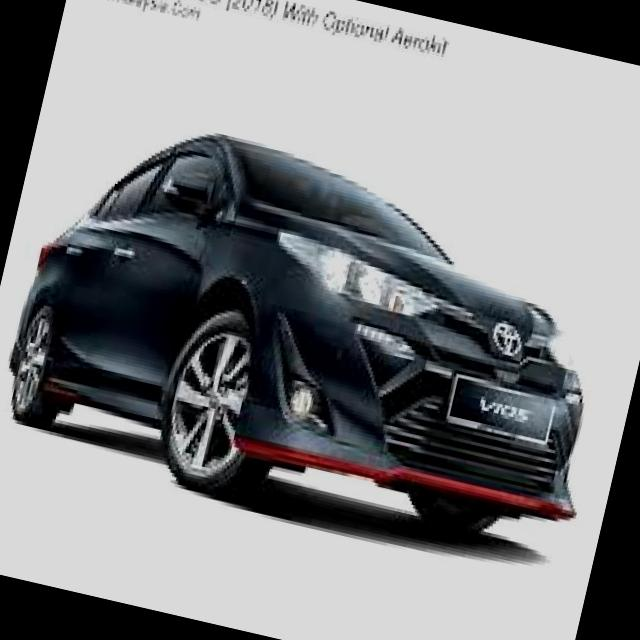ToyotaVios: (0, 96, 640, 577)
